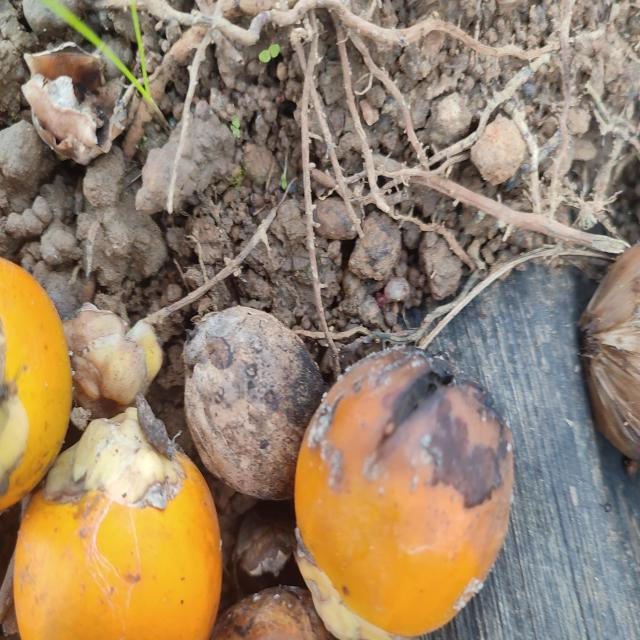damaged: (294, 352, 516, 640), (183, 307, 328, 507), (578, 243, 640, 479)
